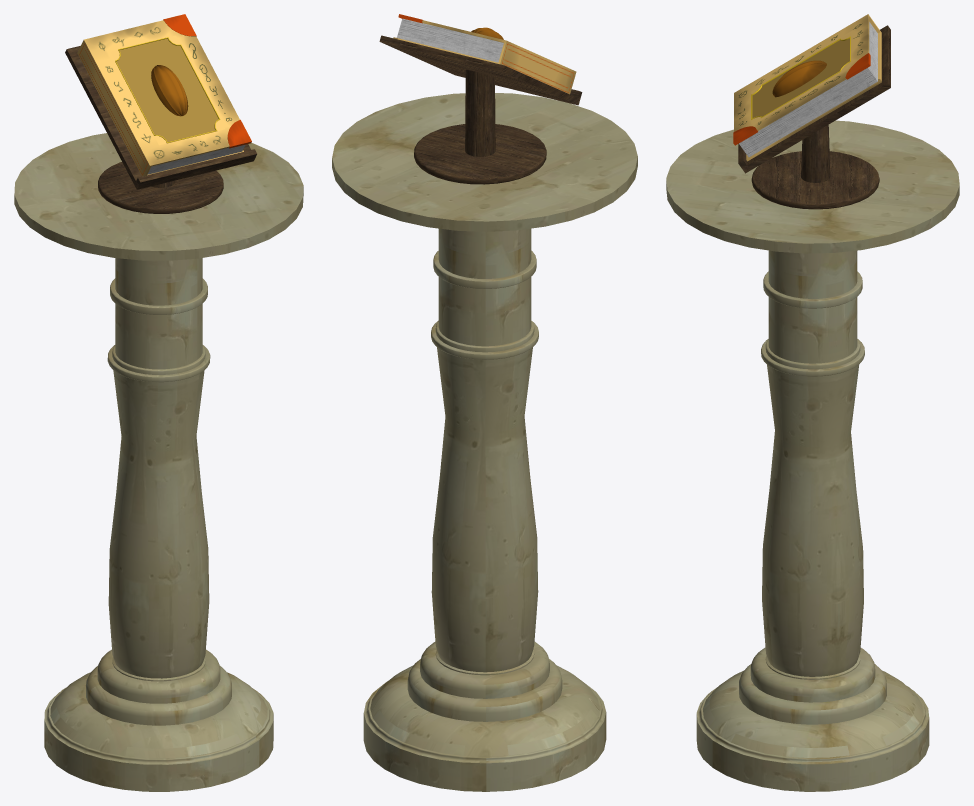
File: Glimorio.fbx
The picture shows the model from 3 angles, left to right: view 1: azimuth 30°, elevation 25°; view 2: azimuth 150°, elevation 25°; view 3: azimuth 270°, elevation 25°; orthographic projection. The views are drawn at different scales.
Parts seen in each view (by area): view 1: Pedestal Livro, Glimório Caroço, Suporte Glimório; view 2: Pedestal Livro, Suporte Glimório, Glimório Caroço; view 3: Pedestal Livro, Glimório Caroço, Suporte Glimório.
Boxes of the visible parts, bbox=[...] form: Pedestal Livro: bbox=[14, 133, 303, 791]; Glimório Caroço: bbox=[77, 14, 251, 176]; Suporte Glimório: bbox=[65, 46, 256, 213]; Pedestal Livro: bbox=[332, 93, 637, 791]; Suporte Glimório: bbox=[379, 35, 582, 184]; Glimório Caroço: bbox=[393, 14, 576, 94]; Pedestal Livro: bbox=[666, 120, 959, 791]; Glimório Caroço: bbox=[733, 14, 881, 161]; Suporte Glimório: bbox=[738, 25, 890, 209].
Size of the model in its own units: 78.63 by 209 by 78.63.
